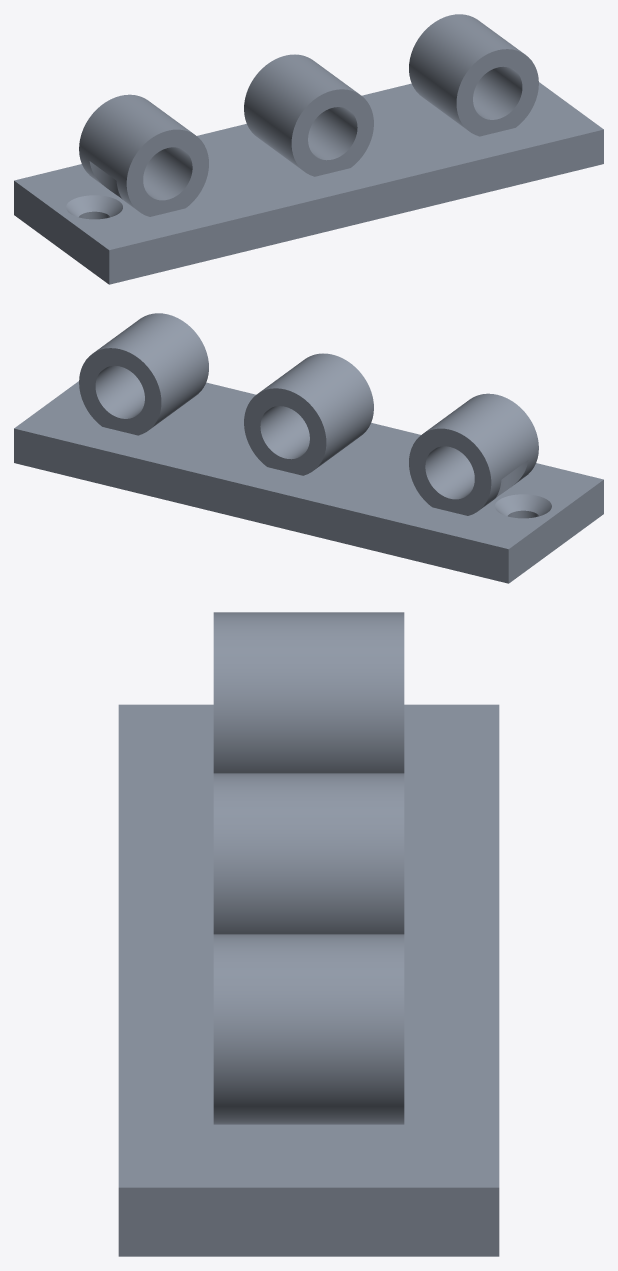
File: step-2-preview-1.glb
3 views of the same model, one above another, from view 1: azimuth 30°, elevation 25°; view 2: azimuth 150°, elevation 25°; view 3: azimuth 270°, elevation 25° (orthographic). The views are drawn at different scales.
Parts seen in each view (by area): view 1: preview_2, preview_9, preview_13, preview_16, preview_0, preview_14, preview_3, preview_17, preview_7, preview_6, preview_20, preview_21 (+2 smaller); view 2: preview_2, preview_8, preview_13, preview_16, preview_0, preview_12, preview_1, preview_15, preview_7, preview_6, preview_20, preview_21 (+2 smaller); view 3: preview_2, preview_16, preview_0, preview_13, preview_10.
Boxes of the visible parts, <box> form: preview_2: <box>14,82,603,250</box>; preview_9: <box>109,129,603,284</box>; preview_13: <box>244,54,358,169</box>; preview_16: <box>409,14,523,129</box>; preview_0: <box>79,94,194,210</box>; preview_14: <box>291,89,373,176</box>; preview_3: <box>126,129,208,216</box>; preview_17: <box>456,49,538,136</box>; preview_7: <box>14,181,109,284</box>; preview_6: <box>143,147,192,200</box>; preview_20: <box>308,107,357,160</box>; preview_21: <box>473,66,522,119</box>; preview_2: <box>14,381,603,549</box>; preview_8: <box>14,428,508,583</box>; preview_13: <box>259,353,373,468</box>; preview_16: <box>94,313,208,428</box>; preview_0: <box>423,393,538,509</box>; preview_12: <box>244,388,326,475</box>; preview_1: <box>409,428,491,515</box>; preview_15: <box>79,348,161,435</box>; preview_7: <box>508,480,603,583</box>; preview_6: <box>425,446,474,499</box>; preview_20: <box>260,406,309,459</box>; preview_21: <box>95,365,144,418</box>; preview_2: <box>118,704,499,1187</box>; preview_16: <box>213,934,404,1124</box>; preview_0: <box>213,612,404,773</box>; preview_13: <box>213,773,404,934</box>; preview_10: <box>118,1187,499,1256</box>.
Bounding box in the file's own units: 0.06 × 0.0135 × 0.02.
